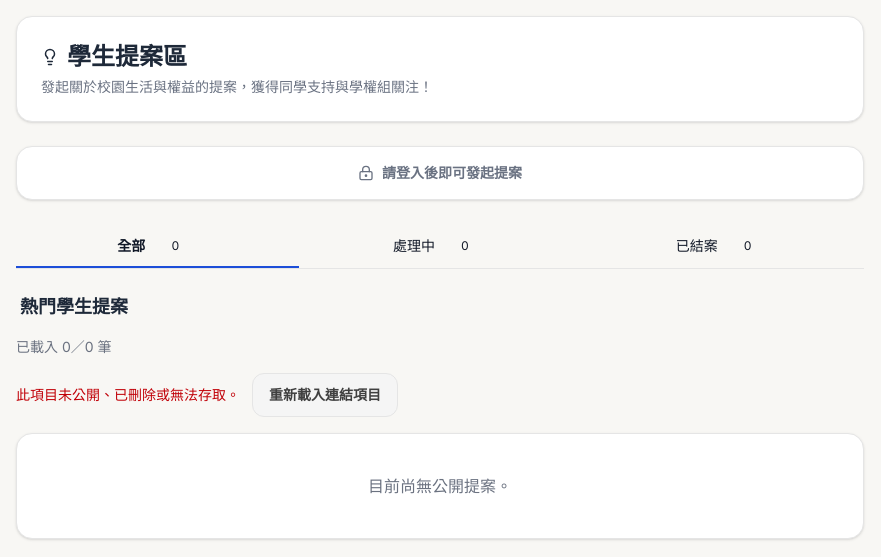
Scenario: keeps unavailable-link feedback alongside the 已結案 empty state
Expected: the message "此項目未公開、已刪除或無法存取。" is shown, [16,385,240,405]
Expected: the text "目前尚無公開提案。" is shown, [368,476,512,496]
Step 1. Click the tab "已結案 0" → click(697, 246), box [581,224,864,268]
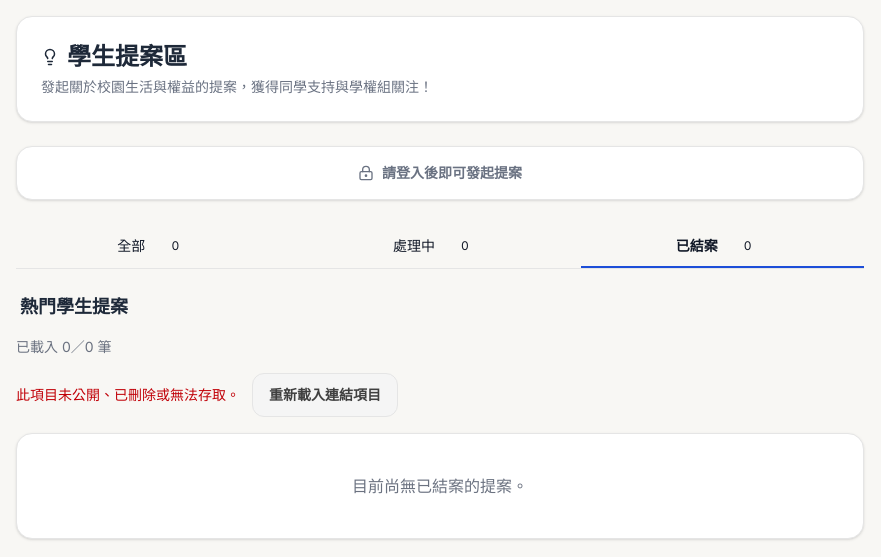
Expected: the message reads "此項目未公開、已刪除或無法存取。", [16,386,240,403]
Expected: the text "目前尚無已結案的提案。" is shown, [352,476,528,496]
